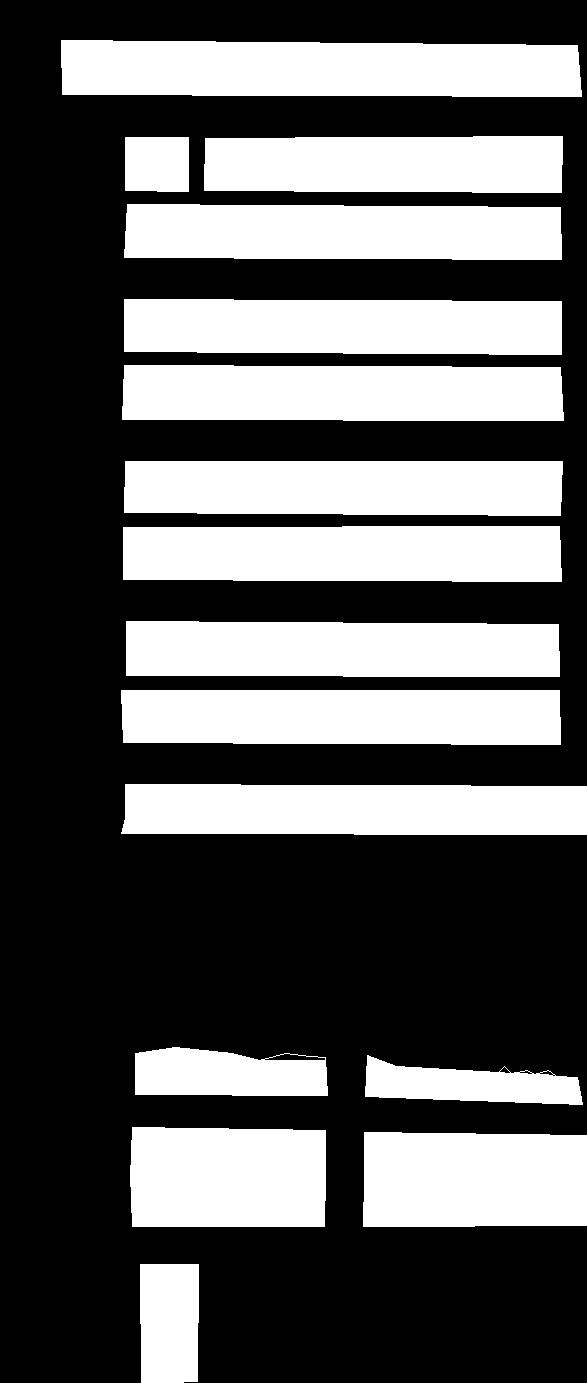parkingspot: (61, 40, 581, 96), (122, 365, 563, 420), (123, 526, 561, 581), (124, 299, 561, 354), (124, 204, 561, 259), (126, 621, 559, 676), (121, 690, 560, 744), (124, 461, 562, 515), (121, 784, 587, 834), (204, 136, 562, 192), (364, 1132, 587, 1184), (363, 1177, 587, 1226), (365, 1055, 582, 1104), (130, 1127, 325, 1181), (130, 1173, 325, 1226), (135, 1047, 327, 1095), (140, 1264, 198, 1383), (125, 137, 188, 191)
